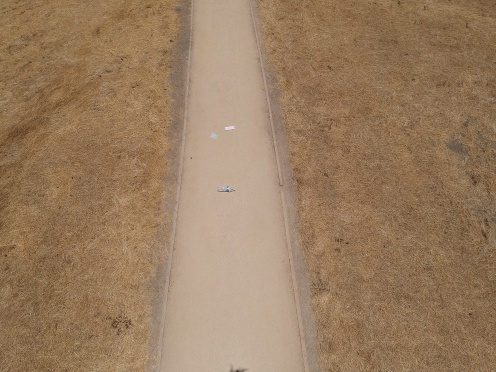bottle: (210, 181, 238, 193)
